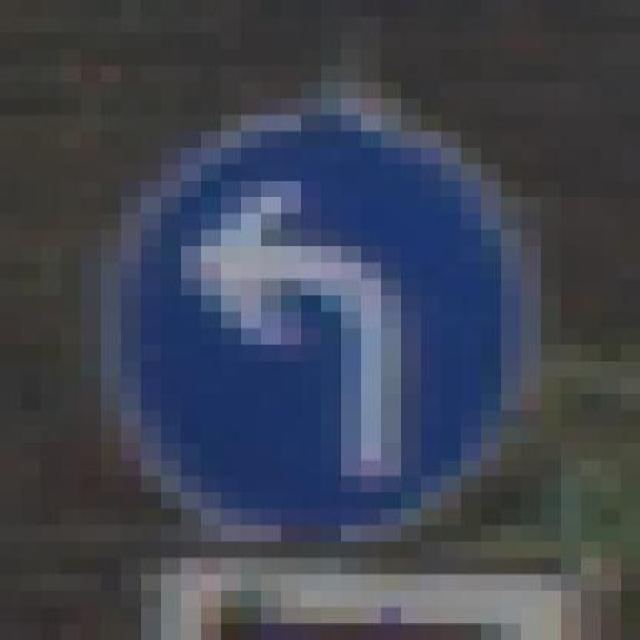Turn left ahead: (100, 82, 560, 575)
